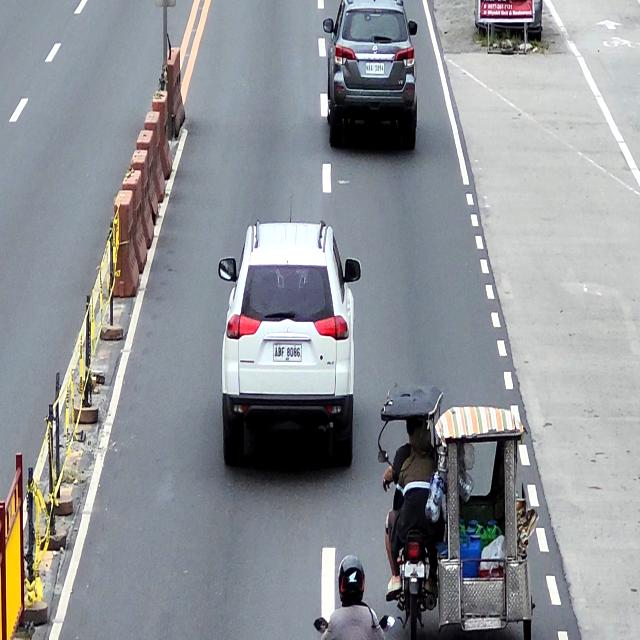Car: (219, 221, 360, 469), (324, 0, 419, 151)
License-Plate: (272, 344, 302, 364), (402, 561, 427, 579), (364, 61, 385, 74)
Tricycle: (384, 389, 534, 640)
